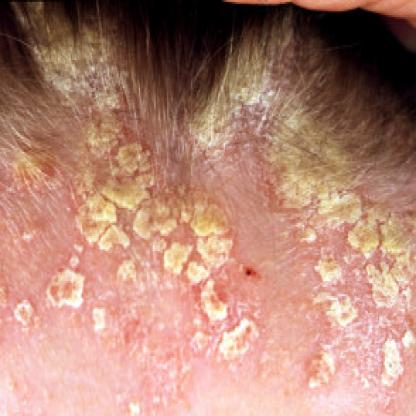Atopic Dermatitis: (70, 159, 238, 361), (295, 185, 415, 385)
